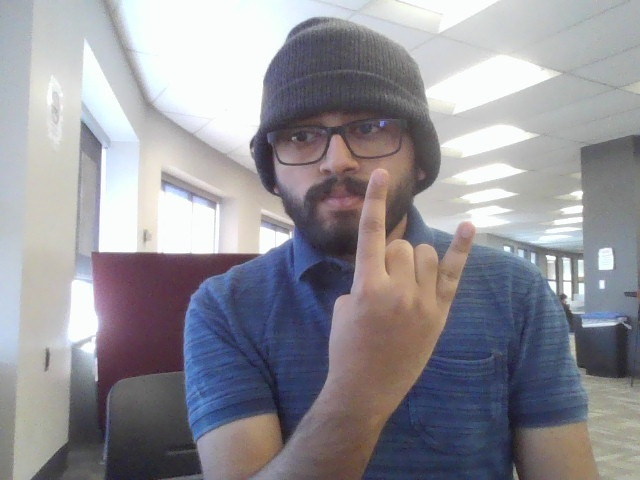help: (305, 163, 480, 428)
